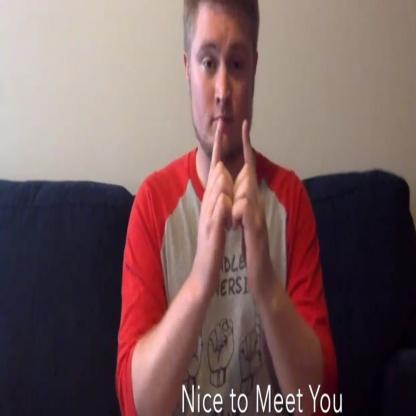NiceToMeetYou: (185, 111, 283, 300)
